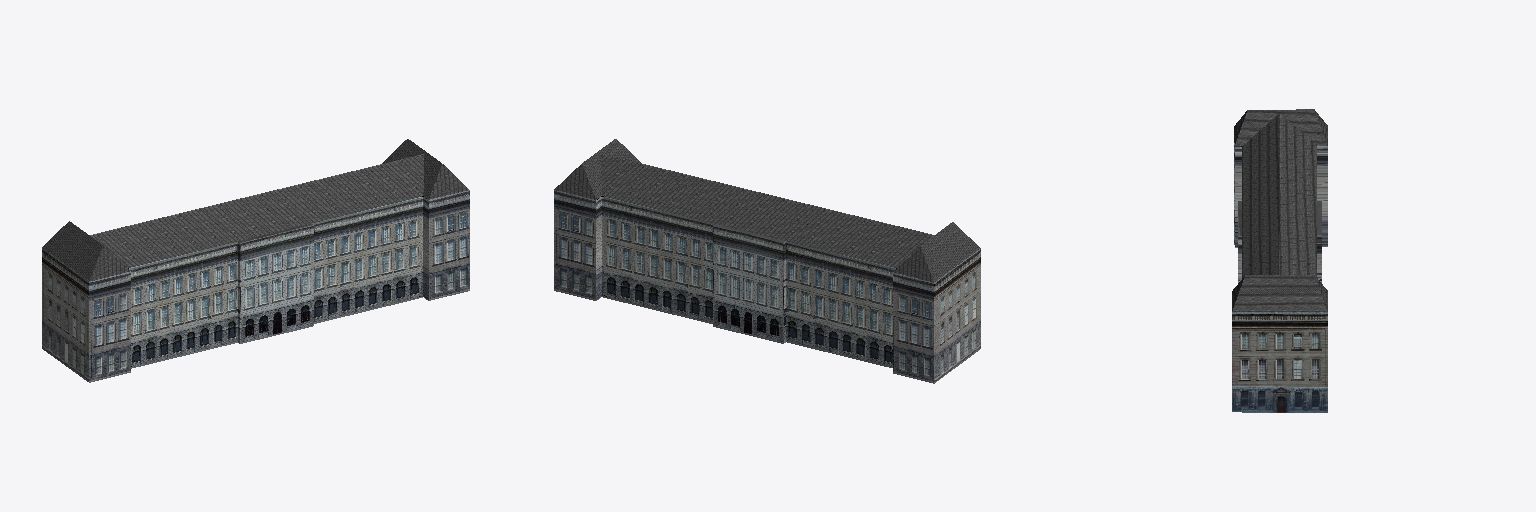
3 renders of one model, left to right at view 1: azimuth 30°, elevation 25°; view 2: azimuth 150°, elevation 25°; view 3: azimuth 270°, elevation 25°, orthographic.
Size of the model in its own units: 23.17 by 7.44 by 5.06.
5 materials, 5 textured.